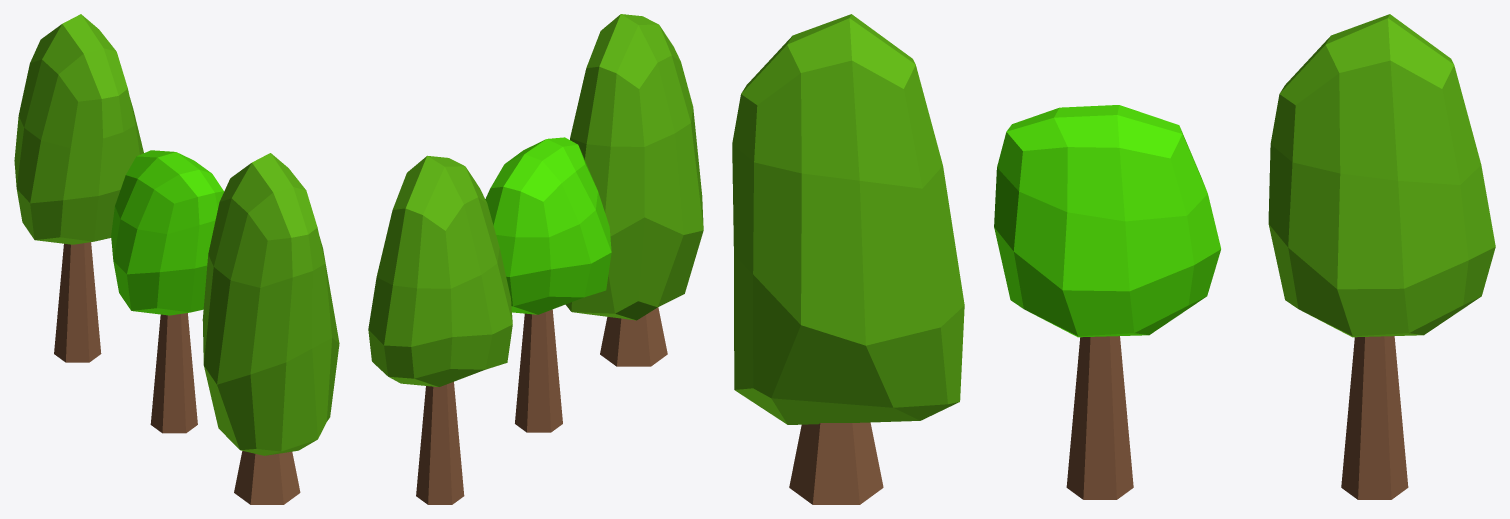
The model's file is Drvece.fbx.
The picture shows the model from 3 angles, left to right: view 1: azimuth 30°, elevation 25°; view 2: azimuth 150°, elevation 25°; view 3: azimuth 270°, elevation 25°; orthographic projection. The views are drawn at different scales.
Visible parts, largest first — view 1: Cylinder.002, Cylinder.001, Roundcube.004; view 2: Cylinder.002, Cylinder.001, Roundcube.004; view 3: Cylinder.002, Cylinder.001, Roundcube.004.
Boxes of the visible parts, x1,y1,x2,y2 form: Cylinder.002: [202, 153, 339, 504]; Cylinder.001: [14, 14, 143, 362]; Roundcube.004: [111, 150, 223, 433]; Cylinder.002: [565, 14, 703, 366]; Cylinder.001: [368, 155, 512, 504]; Roundcube.004: [485, 137, 611, 432]; Cylinder.002: [732, 14, 964, 504]; Cylinder.001: [1268, 14, 1495, 499]; Roundcube.004: [994, 105, 1220, 499].
Bounding box in the file's own units: 416 × 1117 × 1627.
